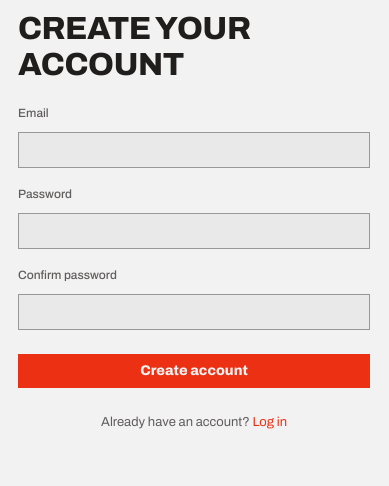
Test case: RegisterPage › rejects mismatched passwords
The width and height of the screenshot is (389, 486).
Type "a@b.com" into the field labelled "Email" at {"x": 194, "y": 150}, box [18,132,370,168]
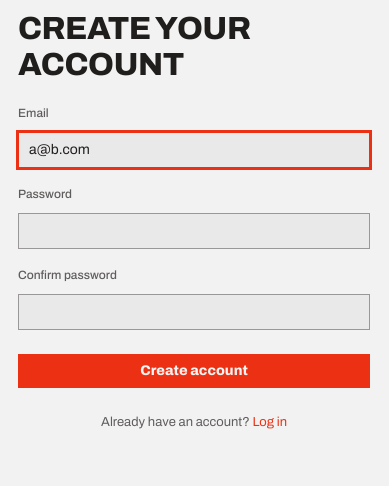
Type "password1234" into the password field labelled "Password" at {"x": 194, "y": 231}, box [18,213,370,249]
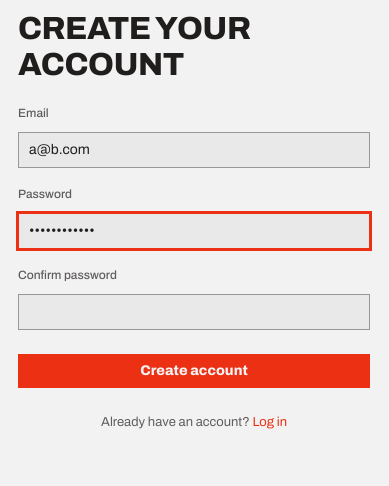
Type "password1235" into the password field labelled "Confirm password" at {"x": 194, "y": 312}, box [18,294,370,330]
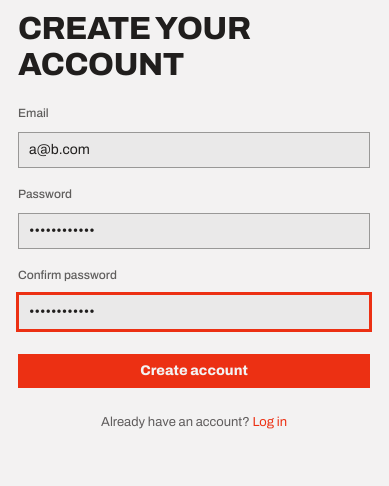
Click the button "Create account" at {"x": 194, "y": 371}, box [18,354,370,388]
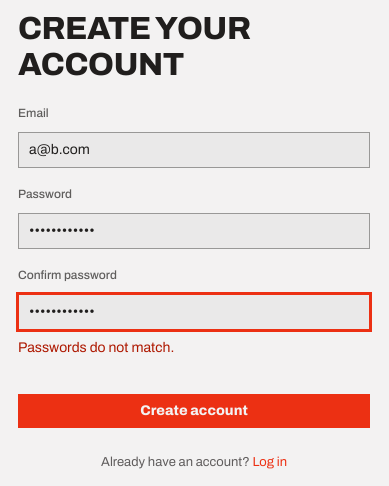
Now the text "Passwords do not match." is shown, box [18,340,174,355]
